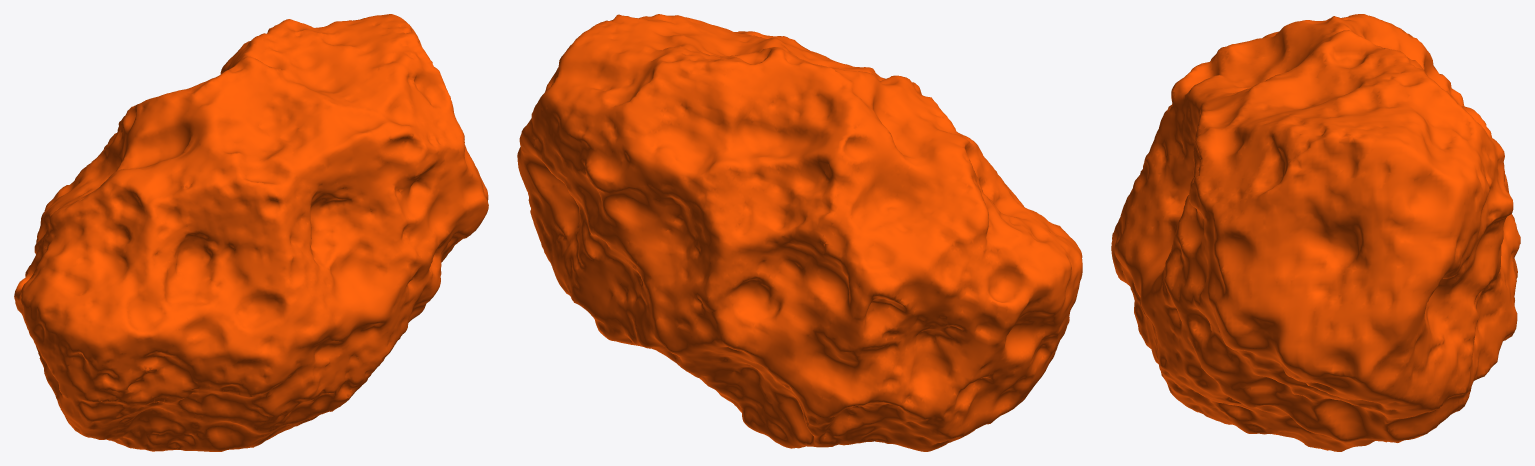
The model's file is Asteroid_1.glb.
3 views of the same model, side by side, from view 1: azimuth 30°, elevation 25°; view 2: azimuth 150°, elevation 25°; view 3: azimuth 270°, elevation 25° (orthographic). The views are drawn at different scales.
Visible parts, largest first — view 1: ASTEROID_LOW_POLY_1_; view 2: ASTEROID_LOW_POLY_1_; view 3: ASTEROID_LOW_POLY_1_.
Part boxes in pixels (left/top/right/bottom): ASTEROID_LOW_POLY_1_: left=14, top=14, right=488, bottom=451; ASTEROID_LOW_POLY_1_: left=517, top=14, right=1082, bottom=451; ASTEROID_LOW_POLY_1_: left=1111, top=14, right=1520, bottom=451.
Bounding box in the file's own units: 3.62 × 2.57 × 2.29.
1 material, 1 textured.
